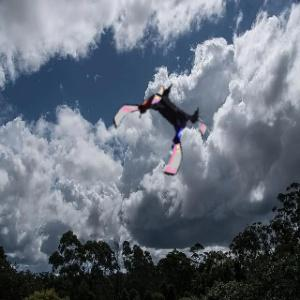drone: (113, 78, 209, 174)
